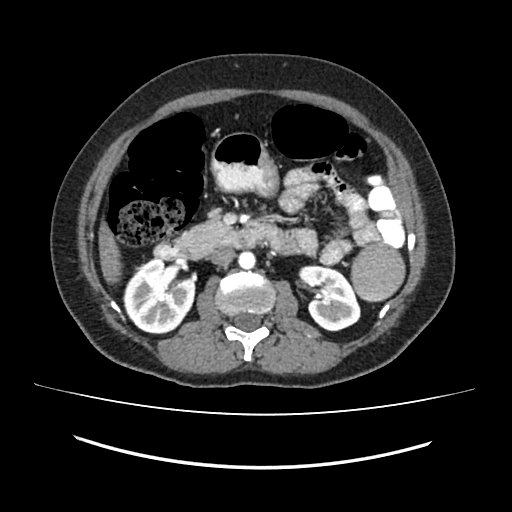aorta: (238, 256, 251, 270)
